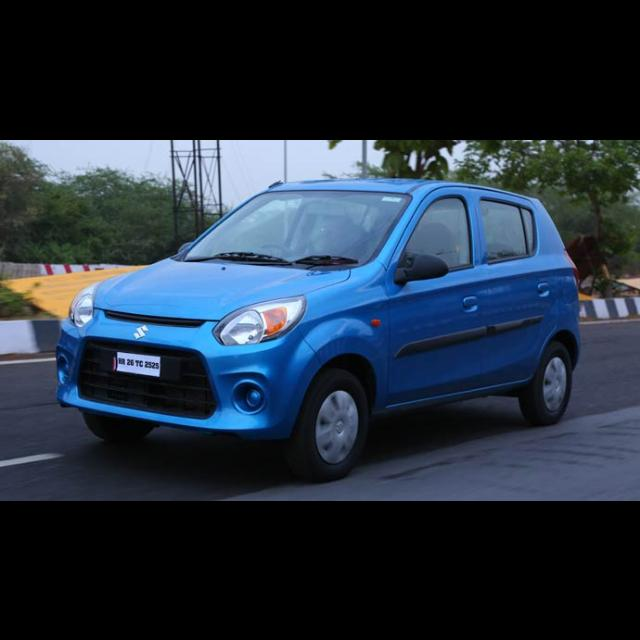number-plate: (114, 350, 159, 375)
vehicles: (51, 174, 575, 484)
